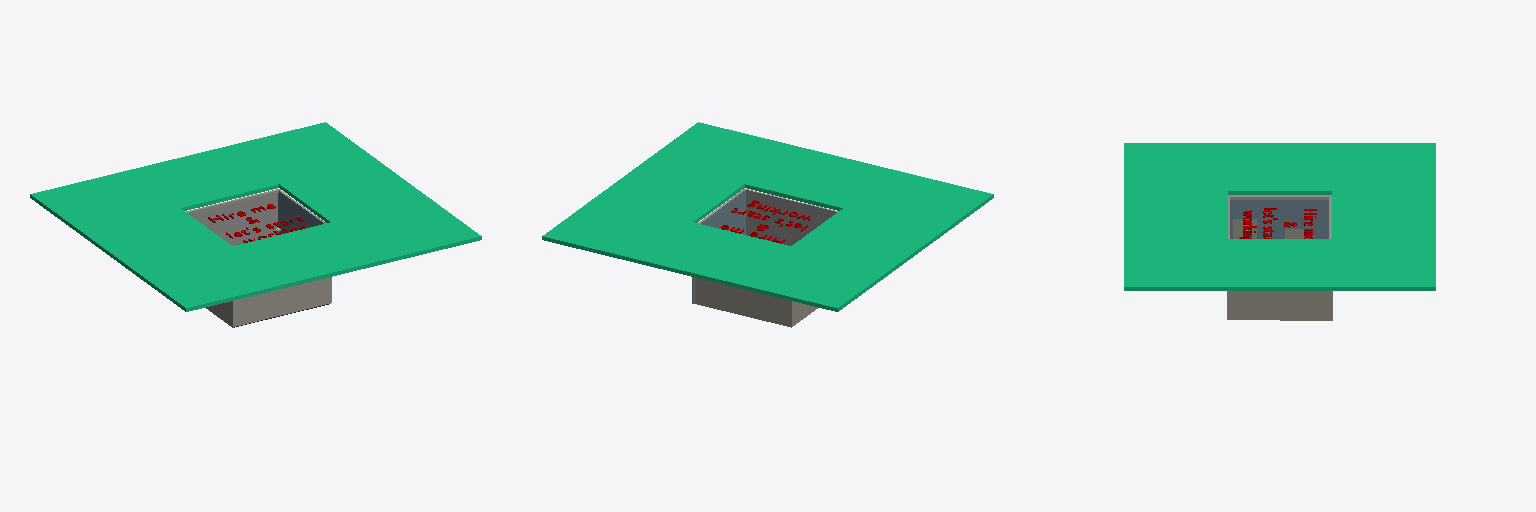
Rendered from hideroom.obj.
3 views of the same model, side by side, from view 1: azimuth 30°, elevation 25°; view 2: azimuth 150°, elevation 25°; view 3: azimuth 270°, elevation 25° (orthographic).
Visible parts, largest first — view 1: Plane_Plane.002, group[number redacted], group[number redacted], Text; view 2: Plane_Plane.002, group[number redacted], group[number redacted], Text; view 3: Plane_Plane.002, group[number redacted], group[number redacted], Text.
Boxes of the visible parts, box(x1,y1,x2,y2) form: Plane_Plane.002: box(30, 122, 481, 311); group[number redacted]: box(235, 190, 331, 325); group[number redacted]: box(186, 189, 279, 327); Text: box(208, 204, 305, 242); Plane_Plane.002: box(542, 122, 993, 311); group[number redacted]: box(692, 188, 838, 303); group[number redacted]: box(695, 278, 817, 327); Text: box(721, 200, 809, 243); Plane_Plane.002: box(1124, 143, 1435, 290); group[number redacted]: box(1227, 195, 1332, 320); group[number redacted]: box(1230, 195, 1331, 320); Text: box(1239, 208, 1316, 238).
Bounding box in the file's own units: 11.99 × 3.16 × 10.96.